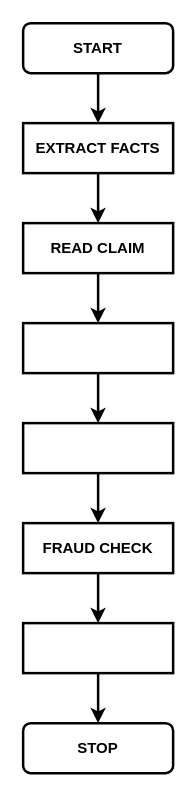
This 195x795 diagram has some shape labels left out. The shapes that lost their labels are listed below. From the top down, each one's box as (x1, y1, x2, y2) in pixels, then its label:
(21, 321, 174, 374): CLASSIFY CLAIM
(21, 421, 174, 474): POLICY CHECK
(21, 621, 174, 674): ROUTE CLAIM
